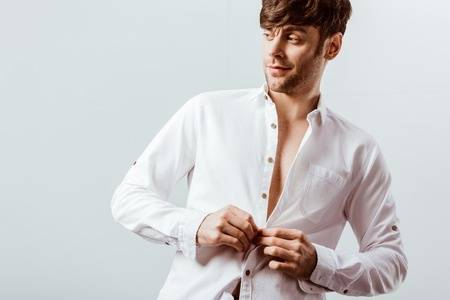S_shirt: (113, 79, 407, 296)
